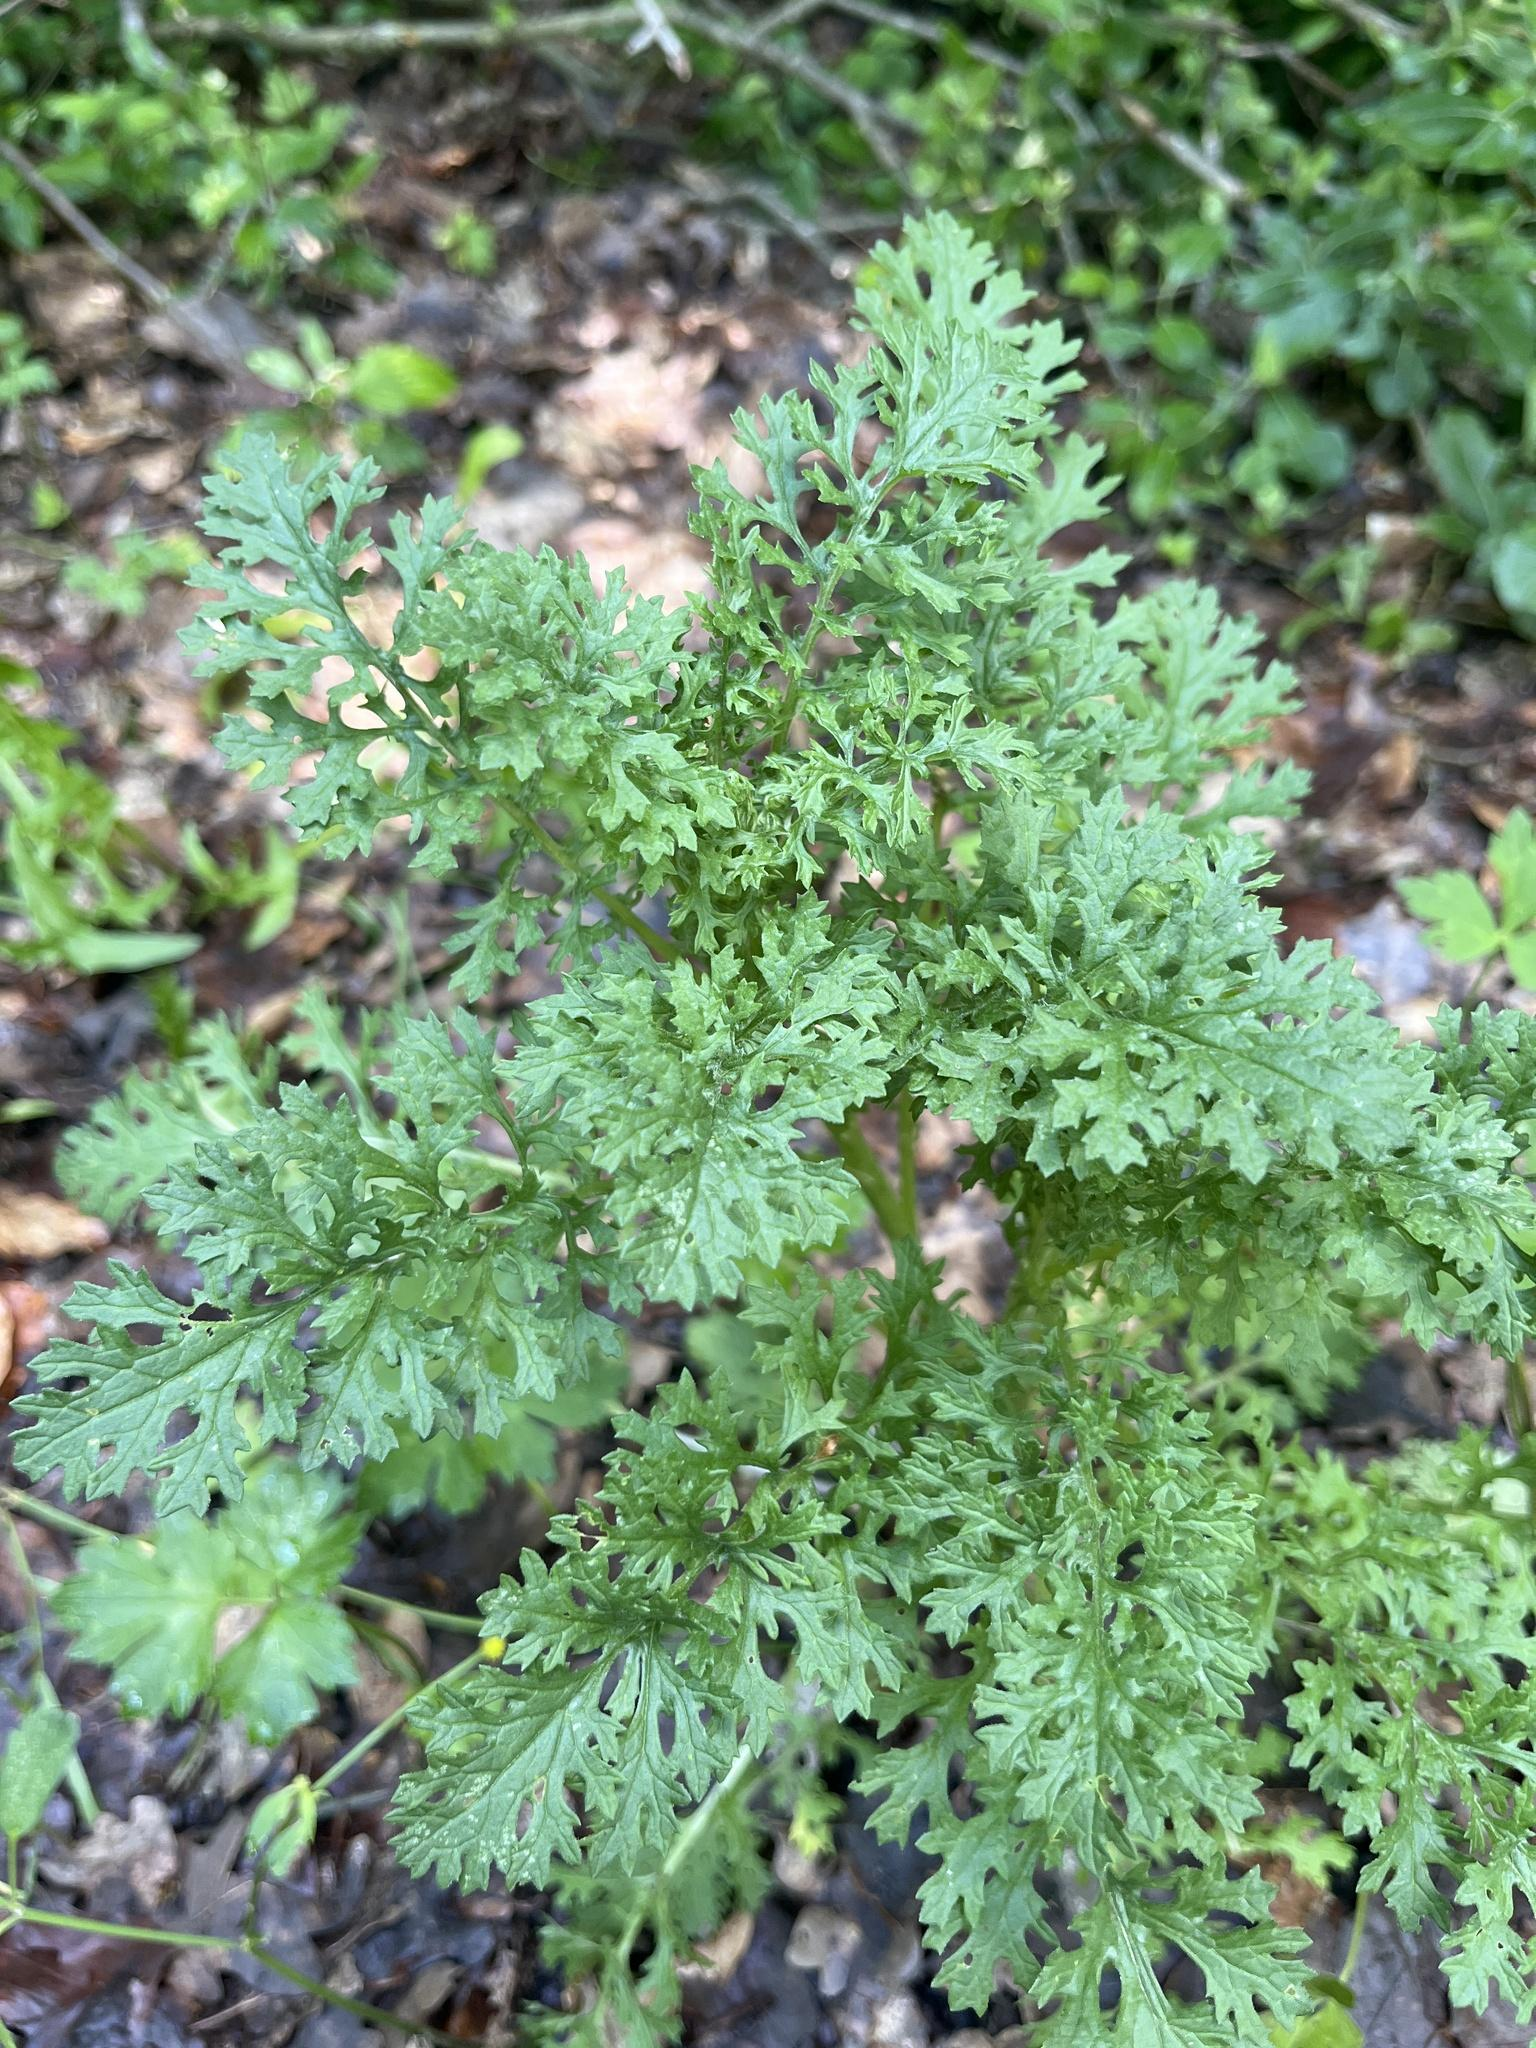Jacobaea vulgaris: (16, 187, 1497, 1967)
